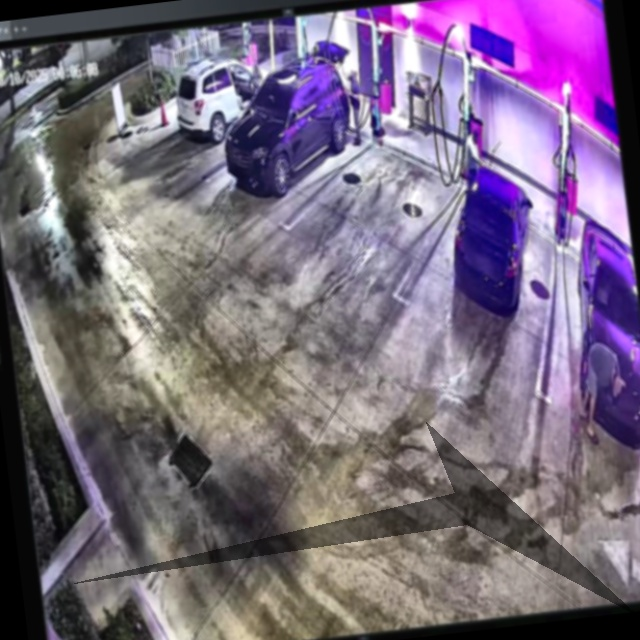Car: (215, 39, 363, 196), (443, 155, 545, 319)
